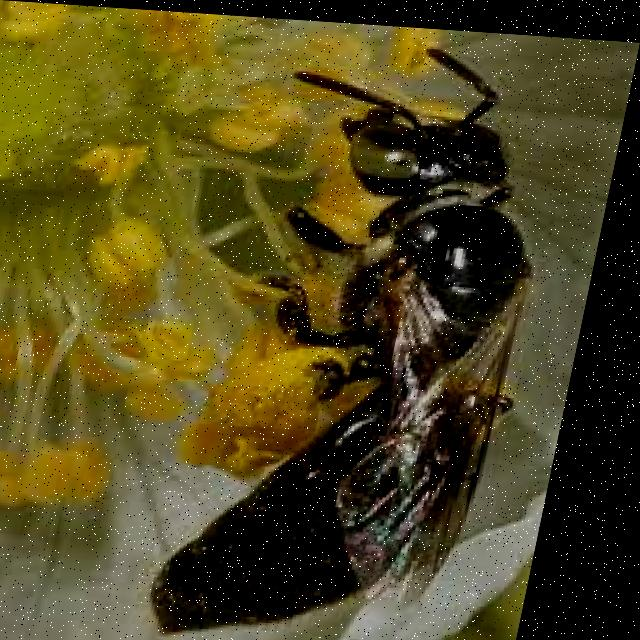Braunsapis: (135, 12, 604, 640)
